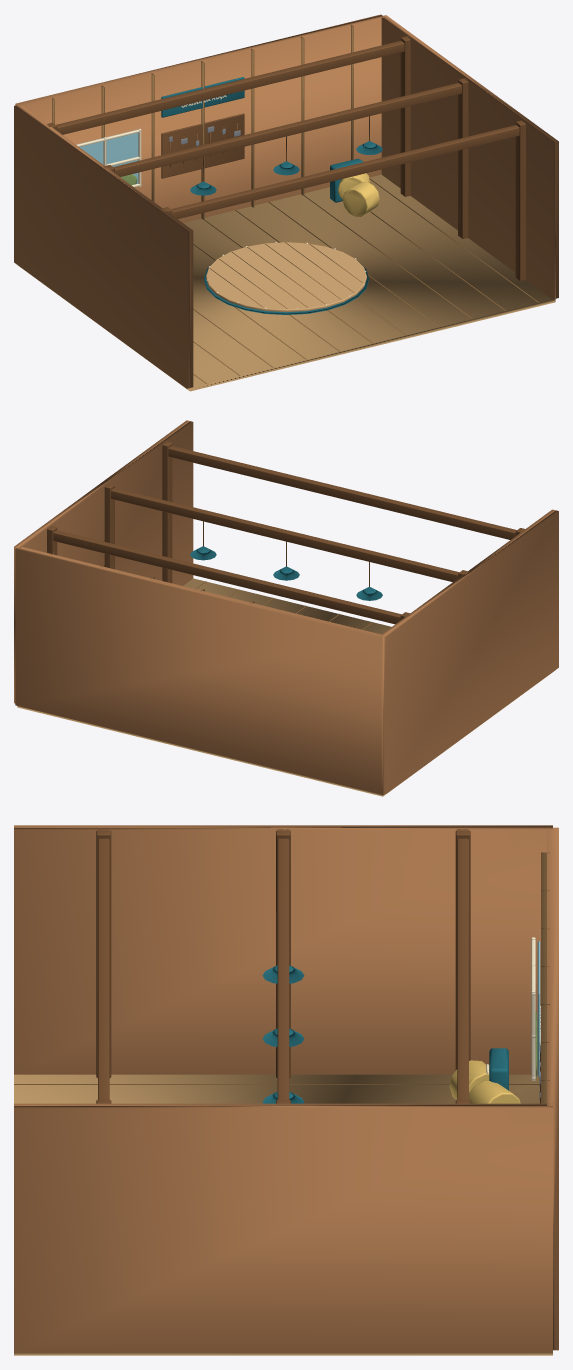
File: garage_mobile.glb
3 views of the same model, one above another, from view 1: azimuth 30°, elevation 25°; view 2: azimuth 150°, elevation 25°; view 3: azimuth 270°, elevation 25° (orthographic). The views are drawn at different scales.
Parts seen in each view (by area): view 1: Garage; view 2: Garage; view 3: Garage, CraftDetails.
Boxes of the visible parts, x1,y1,x2,y2 form: Garage: [14, 14, 558, 391]; Garage: [14, 420, 558, 796]; Garage: [14, 825, 558, 1355]; CraftDetails: [486, 1048, 508, 1090].
Size of the model in its own units: 22.4 by 9.2 by 18.2.
